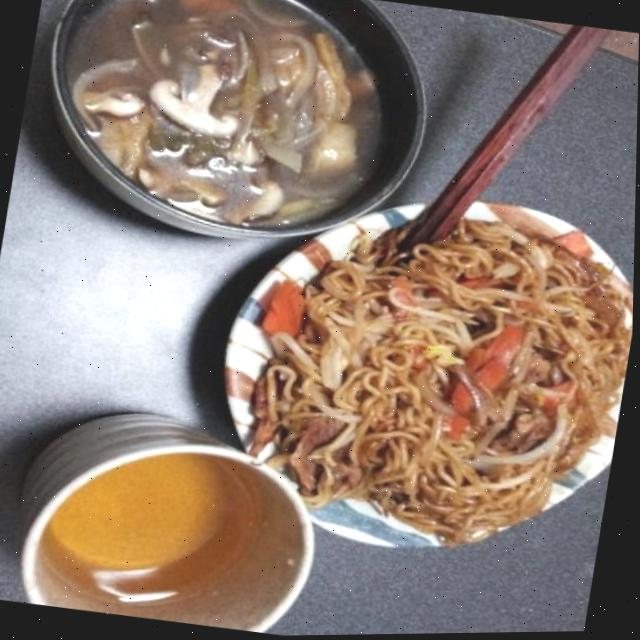汤锅炖物: (27, 0, 451, 263)
面条主食: (197, 170, 637, 584)
